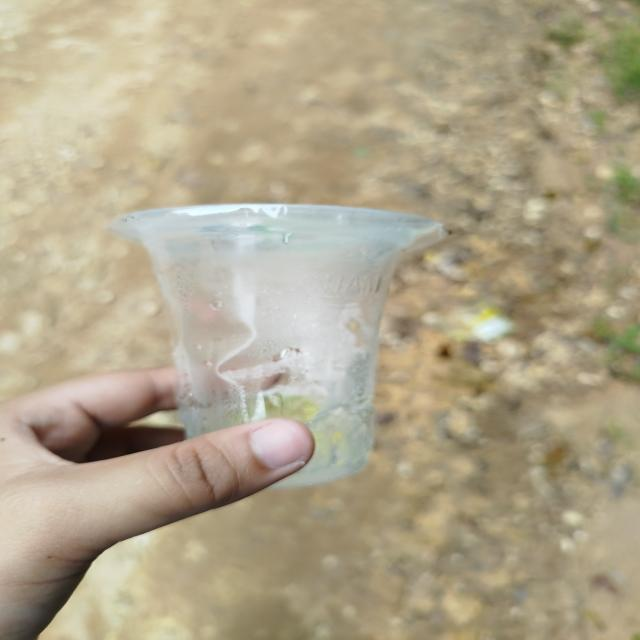plastic: (109, 180, 474, 526)
